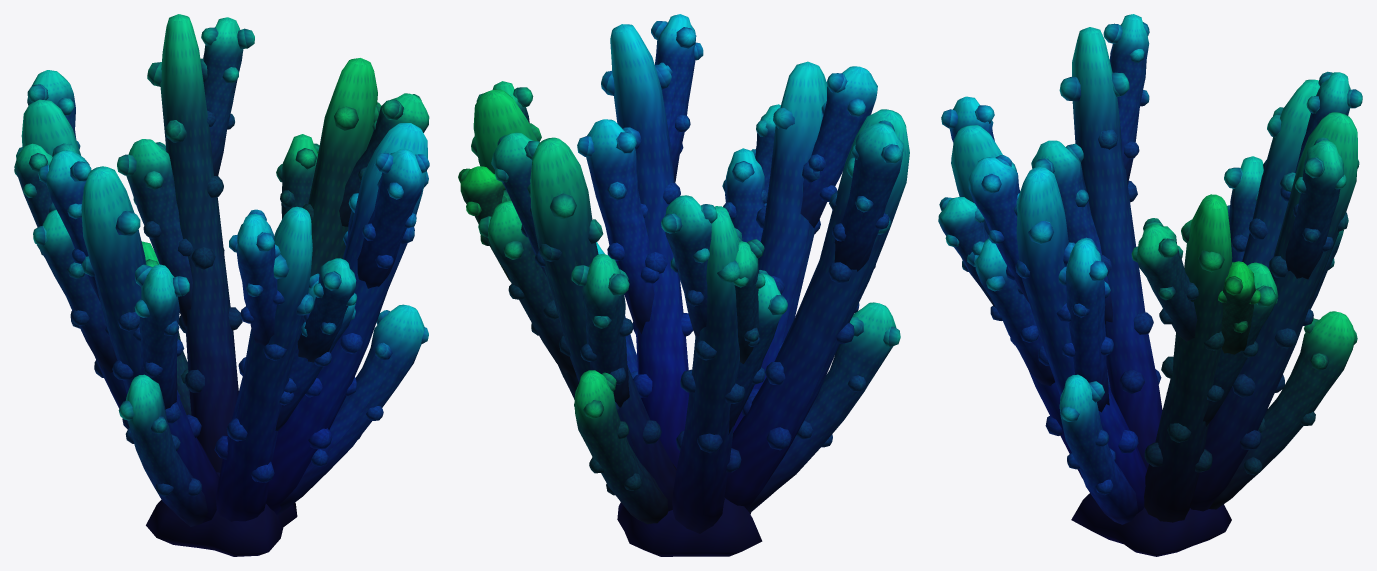
Rendered from reef-stylophora-magenta-club.glb.
The picture shows the model from 3 angles, left to right: view 1: azimuth 30°, elevation 25°; view 2: azimuth 150°, elevation 25°; view 3: azimuth 270°, elevation 25°; orthographic projection. The views are drawn at different scales.
Visible parts, largest first — view 1: Reef_Stylophora_Magenta_Club; view 2: Reef_Stylophora_Magenta_Club; view 3: Reef_Stylophora_Magenta_Club.
Part boxes in pixels (x1,y1,x2,y2): Reef_Stylophora_Magenta_Club: (14, 14, 429, 556); Reef_Stylophora_Magenta_Club: (458, 14, 909, 556); Reef_Stylophora_Magenta_Club: (938, 14, 1362, 556).
Size of the model in its own units: 0.166 by 0.176 by 0.1542.
Materials: 1 (1 with a texture image).
